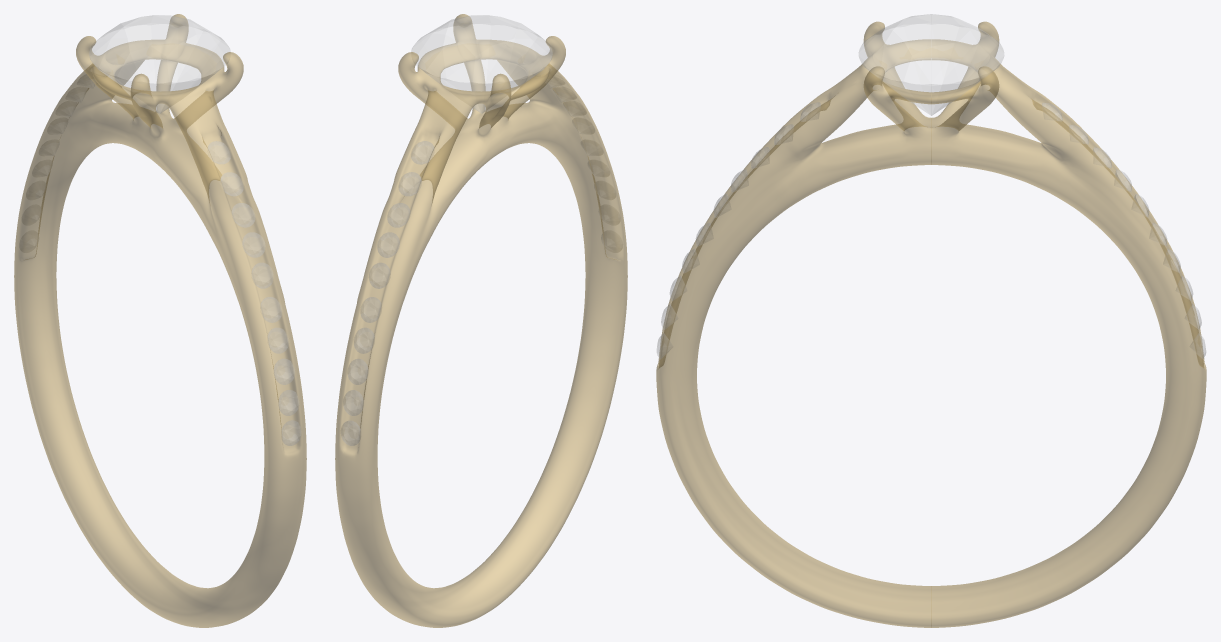
3 renders of one model, left to right at view 1: azimuth 30°, elevation 25°; view 2: azimuth 150°, elevation 25°; view 3: azimuth 270°, elevation 25°, orthographic. The views are drawn at different scales.
Visible parts, largest first — view 1: Ring, Diamond; view 2: Ring, Diamond; view 3: Ring, Diamond.
Boxes of the visible parts, box(x1,y1,x2,y2) form: Ring: box(14, 14, 306, 627); Diamond: box(19, 15, 301, 445); Ring: box(335, 14, 627, 627); Diamond: box(341, 15, 622, 445); Ring: box(656, 21, 1206, 627); Diamond: box(657, 14, 1205, 358).
Bounding box in the file's own units: 0.6116 × 2.75 × 2.31.
